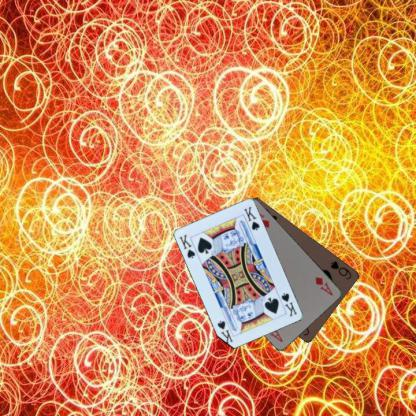6s: (328, 258, 353, 281)
Ad: (312, 274, 334, 297)
Ks: (279, 290, 298, 318), (177, 232, 196, 260)
